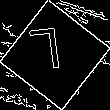L_S: (36, 28, 74, 82)
